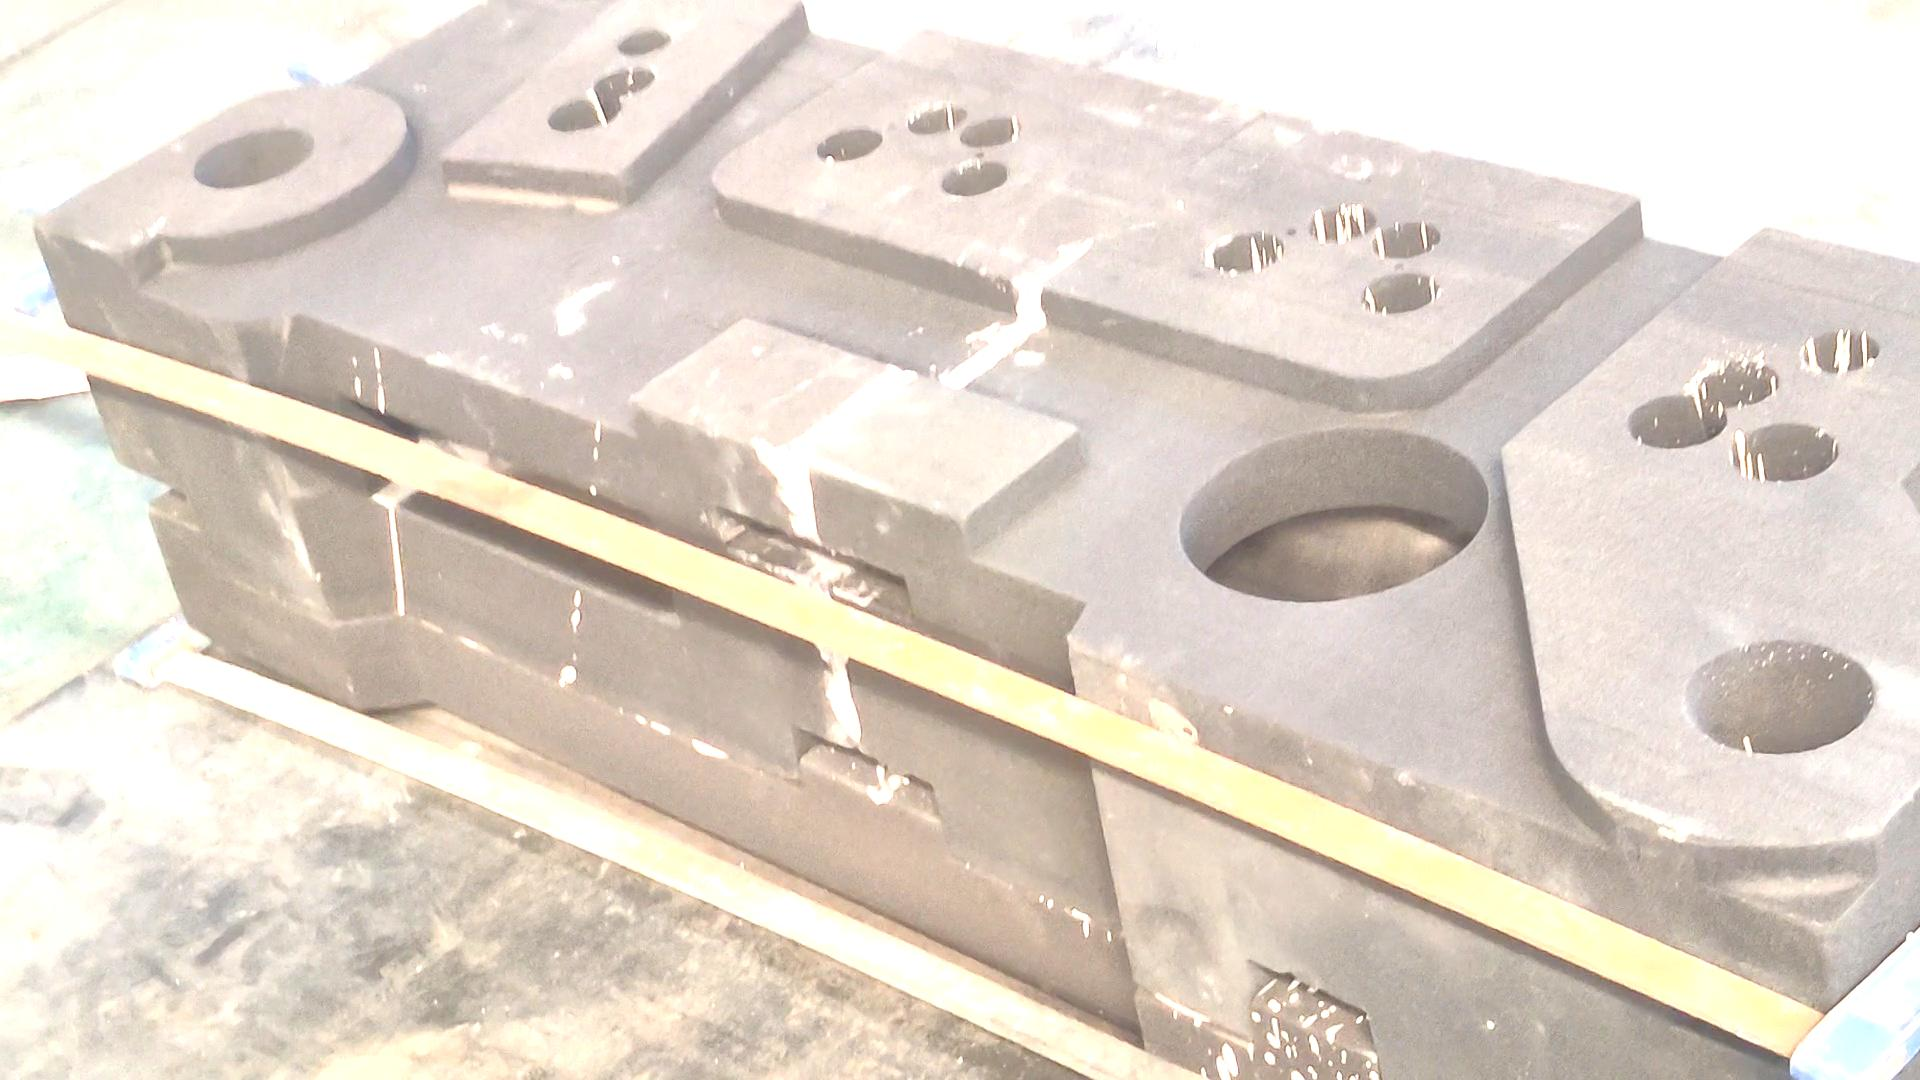pouring hole: (1687, 638, 1876, 752), (195, 128, 314, 189)
